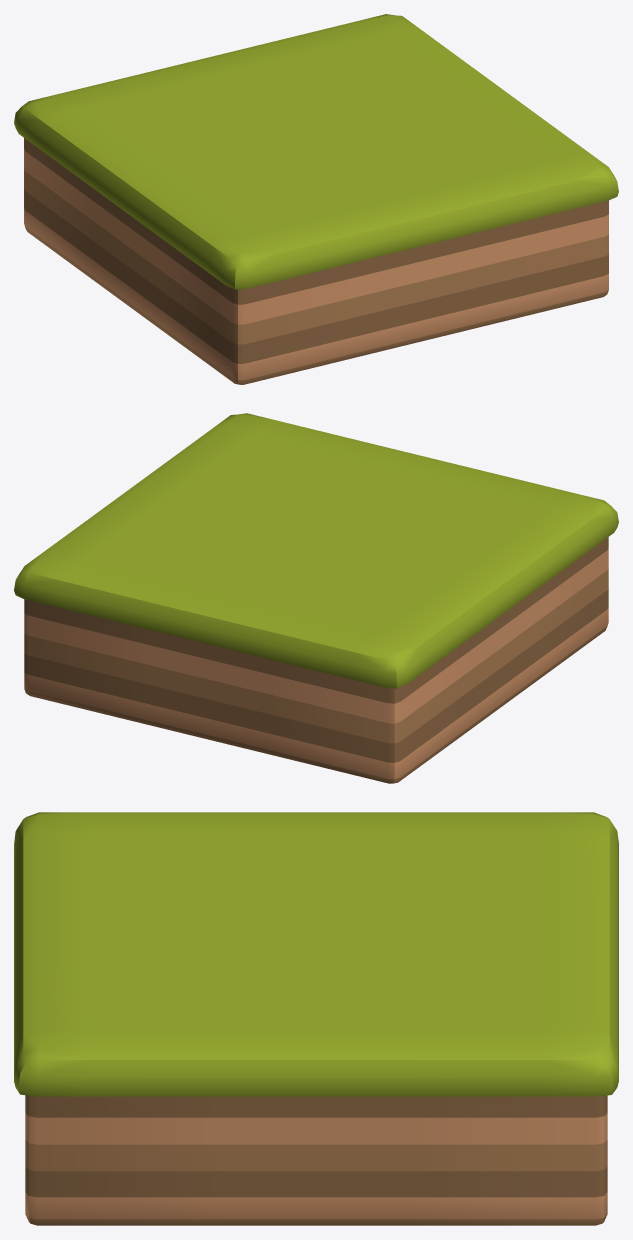
The model's file is Cube Grass 3x3.glb.
3 views of the same model, one above another, from view 1: azimuth 30°, elevation 25°; view 2: azimuth 150°, elevation 25°; view 3: azimuth 270°, elevation 25° (orthographic). The views are drawn at different scales.
Visible parts, largest first — view 1: Cube_Grass_Corner, Cube_Grass_Side, Cube_Grass_Corner.002, Cube_Grass_Side.002, Cube_Grass_Corner.001, Cube_Grass_Center, Cube_Grass_Side.003, Cube_Grass_Side.001, Cube_Grass_Corner.003; view 2: Cube_Grass_Corner.001, Cube_Grass_Side.001, Cube_Grass_Corner.003, Cube_Grass_Side.002, Cube_Grass_Corner, Cube_Grass_Center, Cube_Grass_Side.003, Cube_Grass_Side, Cube_Grass_Corner.002; view 3: Cube_Grass_Corner.002, Cube_Grass_Corner.003, Cube_Grass_Side.003, Cube_Grass_Side, Cube_Grass_Side.001, Cube_Grass_Corner.001, Cube_Grass_Corner, Cube_Grass_Center, Cube_Grass_Side.002.
Part boxes in pixels (x1=…): Cube_Grass_Corner: x1=157, y1=176, x2=366, y2=384; Cube_Grass_Side: x1=290, y1=145, x2=491, y2=356; Cube_Grass_Corner.002: x1=415, y1=117, x2=618, y2=325; Cube_Grass_Side.002: x1=85, y1=123, x2=289, y2=333; Cube_Grass_Corner.001: x1=14, y1=73, x2=217, y2=280; Cube_Grass_Center: x1=218, y1=92, x2=414, y2=175; Cube_Grass_Side.003: x1=343, y1=64, x2=541, y2=145; Cube_Grass_Side.001: x1=145, y1=42, x2=342, y2=122; Cube_Grass_Corner.003: x1=270, y1=14, x2=468, y2=92; Cube_Grass_Corner.001: x1=266, y1=575, x2=475, y2=783; Cube_Grass_Side.001: x1=141, y1=544, x2=342, y2=754; Cube_Grass_Corner.003: x1=14, y1=516, x2=217, y2=724; Cube_Grass_Side.002: x1=343, y1=522, x2=547, y2=732; Cube_Grass_Corner: x1=415, y1=472, x2=618, y2=679; Cube_Grass_Center: x1=218, y1=492, x2=414, y2=574; Cube_Grass_Side.003: x1=92, y1=463, x2=289, y2=544; Cube_Grass_Side: x1=290, y1=441, x2=487, y2=521; Cube_Grass_Corner.002: x1=164, y1=413, x2=362, y2=491; Cube_Grass_Corner.002: x1=14, y1=973, x2=219, y2=1225; Cube_Grass_Corner.003: x1=413, y1=973, x2=618, y2=1225; Cube_Grass_Side.003: x1=219, y1=973, x2=413, y2=1225; Cube_Grass_Side: x1=14, y1=891, x2=219, y2=1001; Cube_Grass_Side.001: x1=413, y1=891, x2=618, y2=1001; Cube_Grass_Corner.001: x1=413, y1=812, x2=618, y2=919; Cube_Grass_Corner: x1=14, y1=812, x2=219, y2=919; Cube_Grass_Center: x1=219, y1=891, x2=413, y2=972; Cube_Grass_Side.002: x1=219, y1=812, x2=413, y2=890.
Size of the model in its own units: 6.23 by 2 by 6.23.
